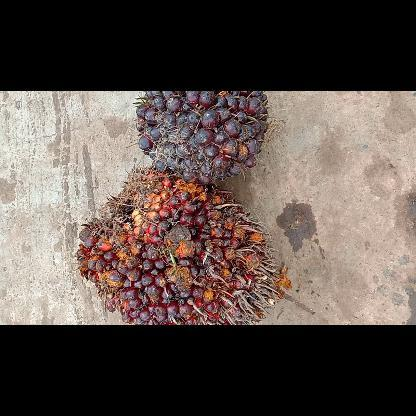TBS masak: (75, 164, 281, 324)
TBS mentah: (135, 91, 269, 183)
